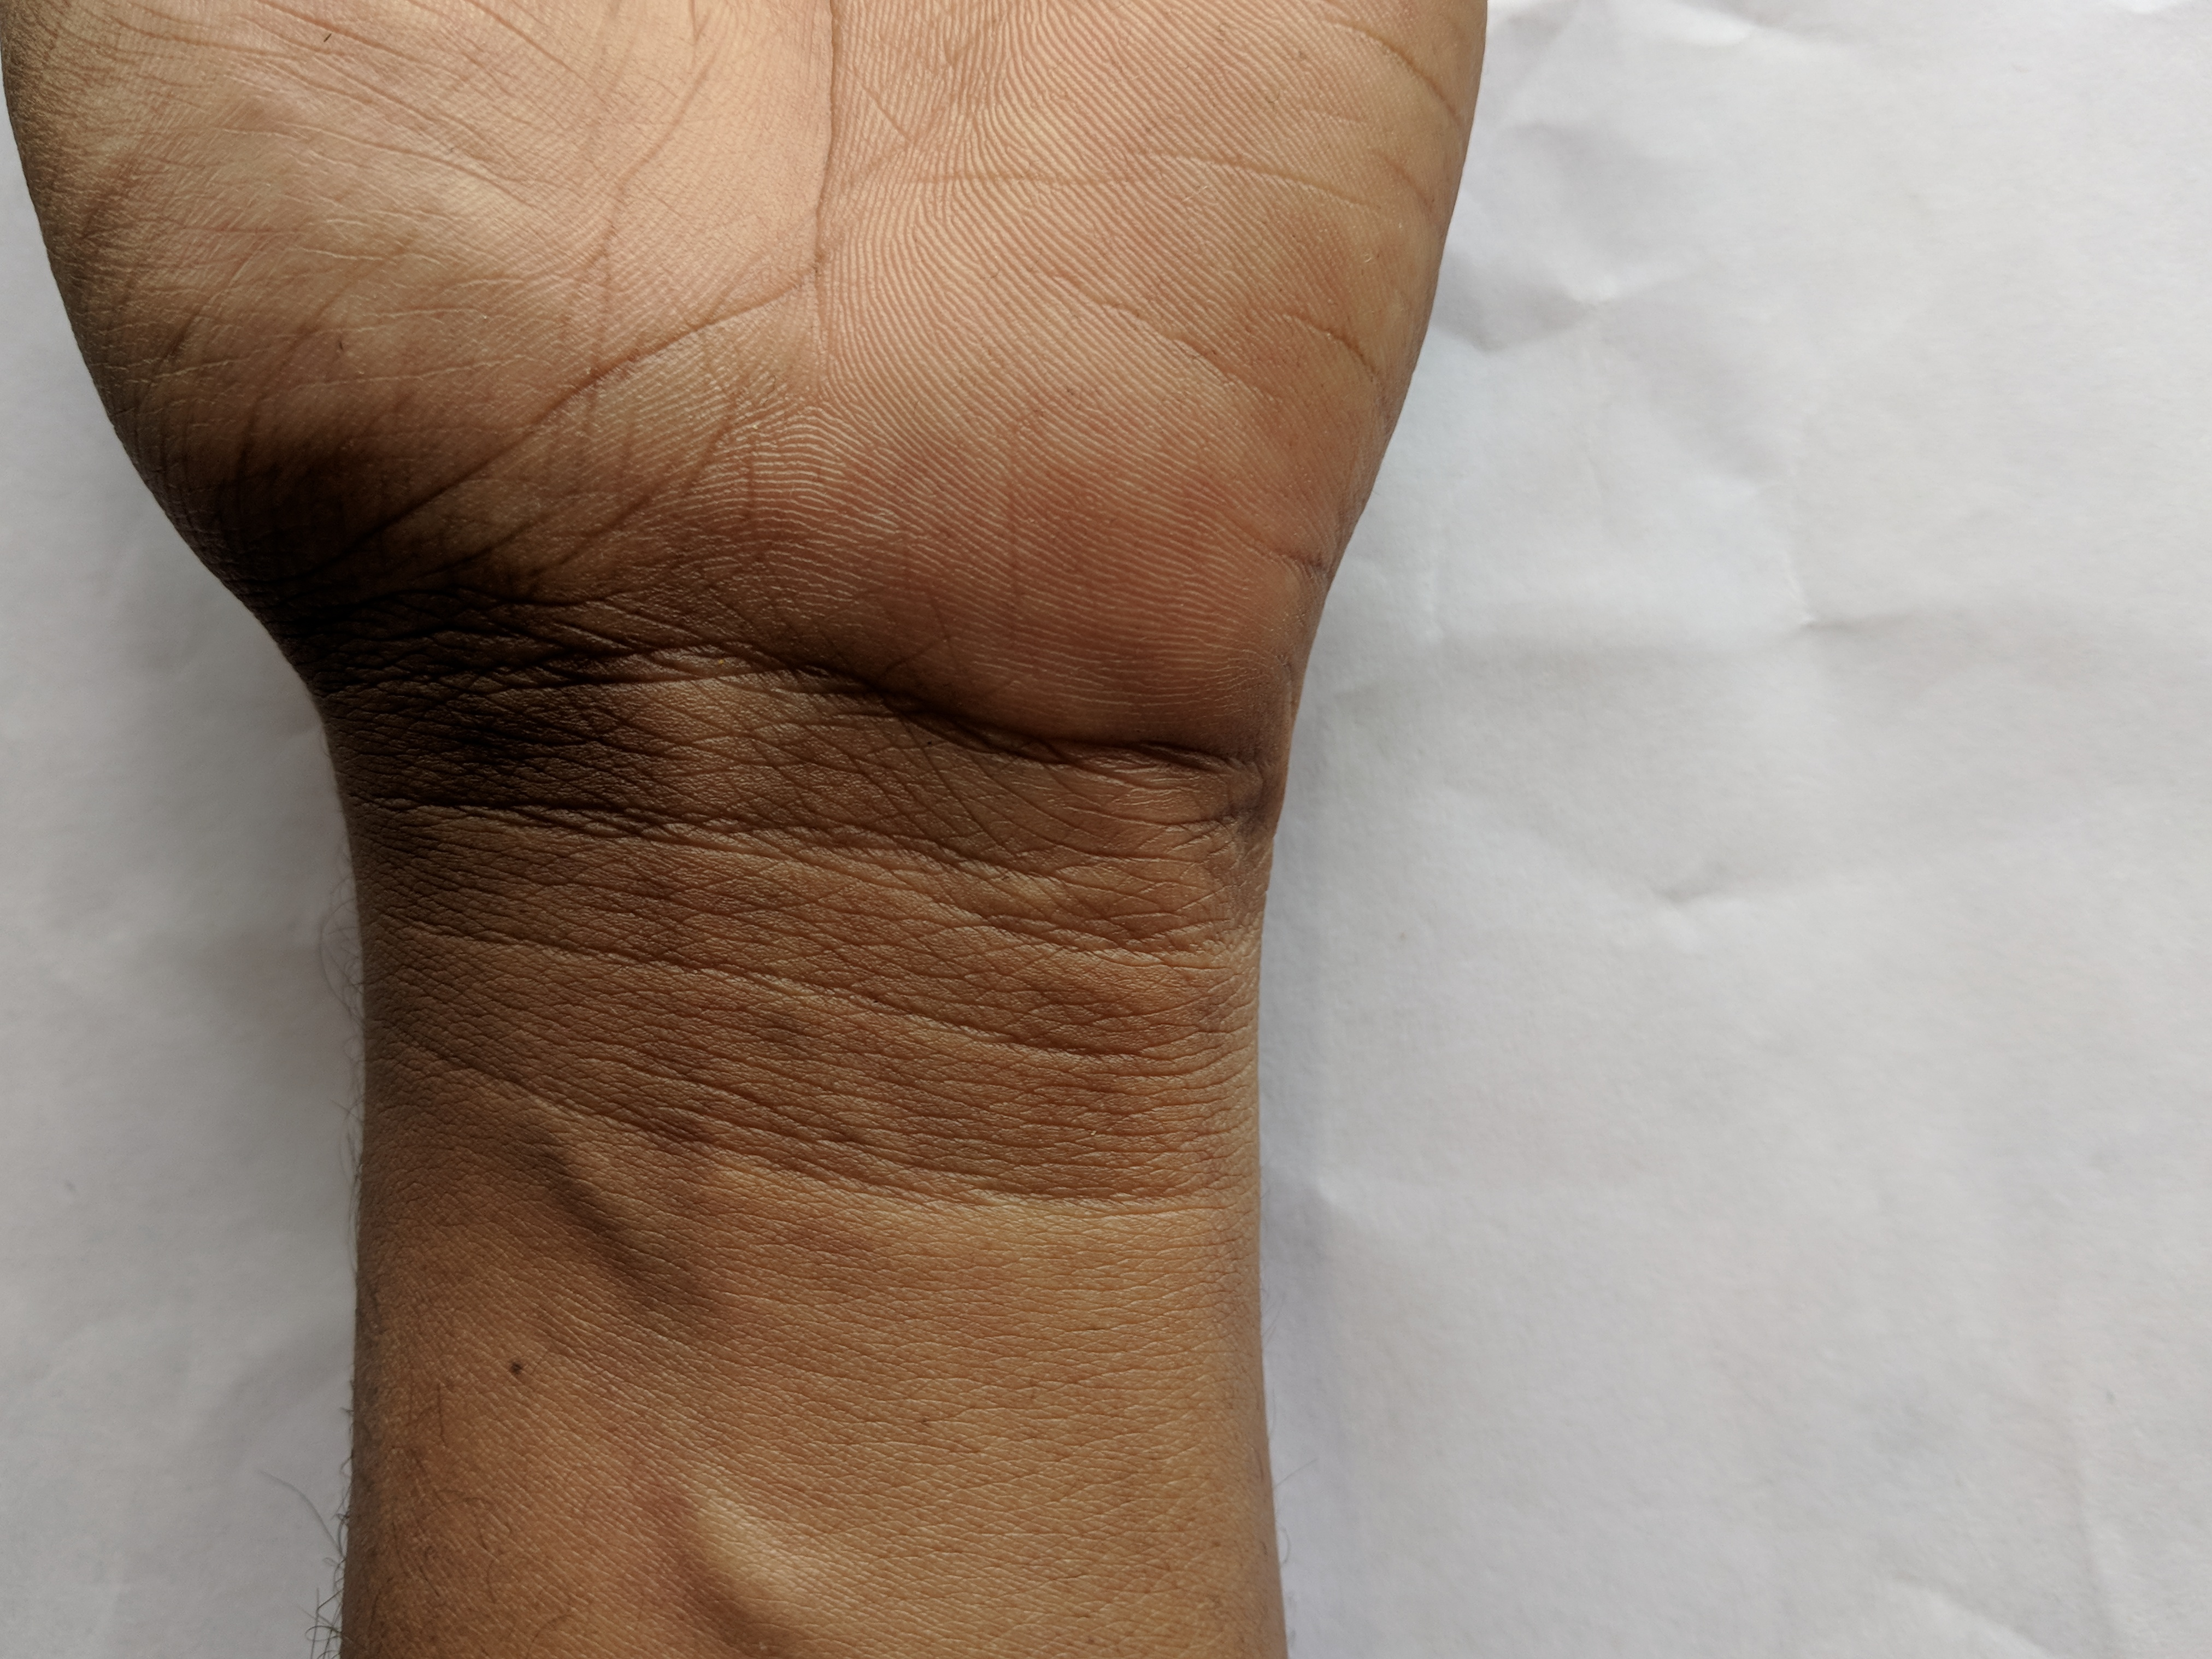lefthandwrist: (232, 586, 1327, 1110)
